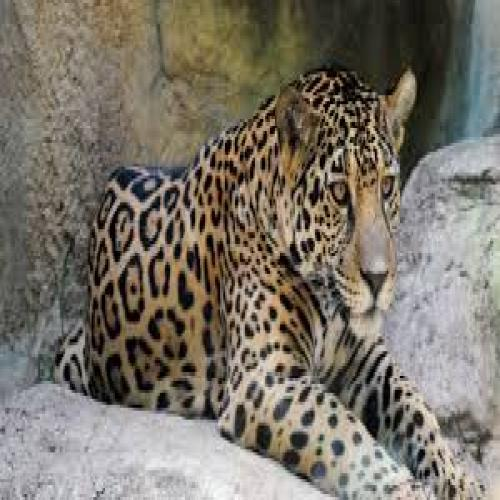jaguar_not-endangered: (89, 67, 492, 500)
